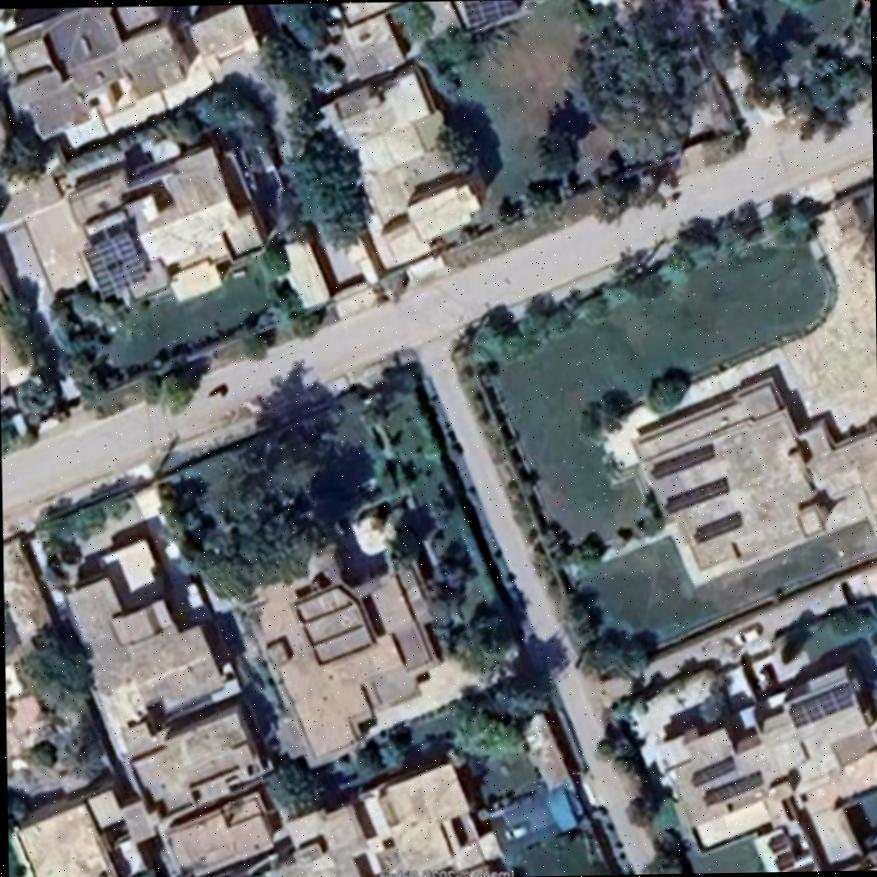Solarpanel: (82, 229, 148, 296), (787, 682, 853, 727), (661, 478, 730, 513), (649, 444, 711, 475), (703, 772, 760, 802), (691, 515, 741, 542), (463, 0, 514, 22), (692, 757, 733, 782)
